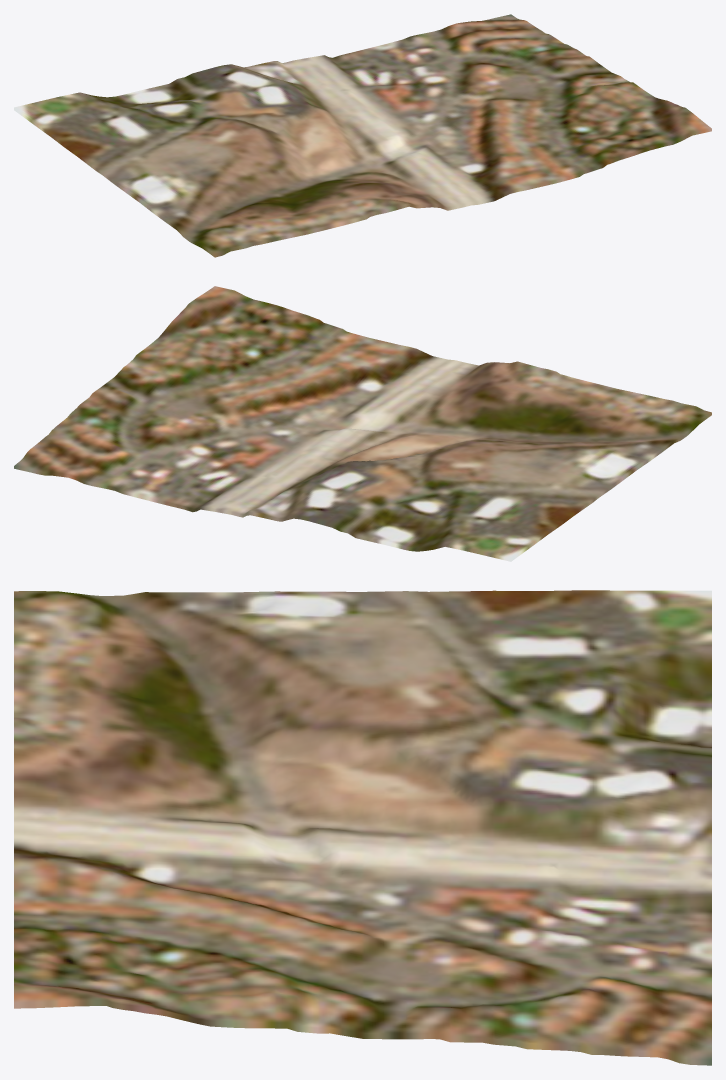
Rendered from terrain_r4_c7_lod1.glb.
3 renders of one model, top to bottom at view 1: azimuth 30°, elevation 25°; view 2: azimuth 150°, elevation 25°; view 3: azimuth 270°, elevation 25°, orthographic. The views are drawn at different scales.
Visible parts, largest first — view 1: terrain_r4_c7_lod1; view 2: terrain_r4_c7_lod1; view 3: terrain_r4_c7_lod1.
Boxes of the visible parts, bbox=[...] form: terrain_r4_c7_lod1: bbox=[14, 14, 711, 257]; terrain_r4_c7_lod1: bbox=[14, 286, 711, 561]; terrain_r4_c7_lod1: bbox=[14, 590, 711, 1065].
Bounding box in the file's own units: 1125 × 80.34 × 787.
Materials: 1 (1 with a texture image).
